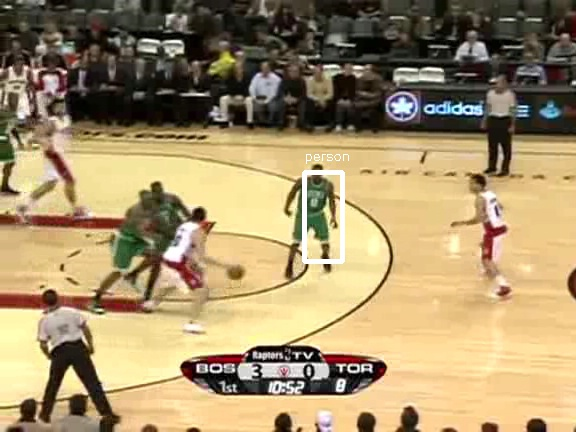person: (296, 171, 330, 252), (295, 171, 329, 252), (297, 171, 331, 252), (296, 170, 330, 251), (296, 172, 330, 253)
target_negative: (41, 18, 260, 355), (9, 233, 167, 415), (363, 27, 390, 413), (433, 65, 525, 156), (28, 268, 478, 269), (569, 368, 575, 403)
